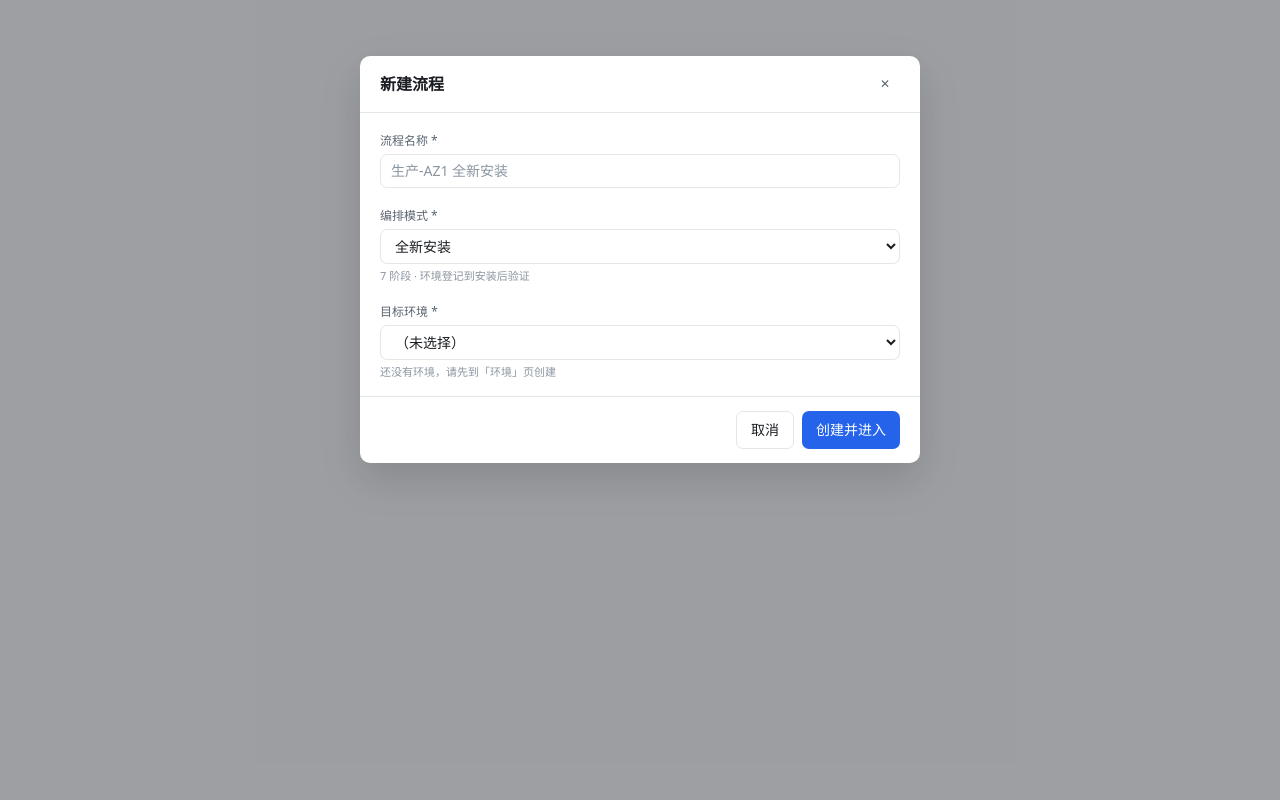
NewFlowDialog › 目标环境 hint 跟着模式改口：只有 K8s 升级说「可留空」
Expected: the text "还没有环境，请先到「环境」页创建" is shown, top-left (380, 364), bottom-right (556, 379)
Select "K8s / Helm 升级" in the dropdown labelled "编排模式 * 7 阶段 · 环境登记到安装后验证" at (640, 246), box top-left (380, 229), bottom-right (900, 264)
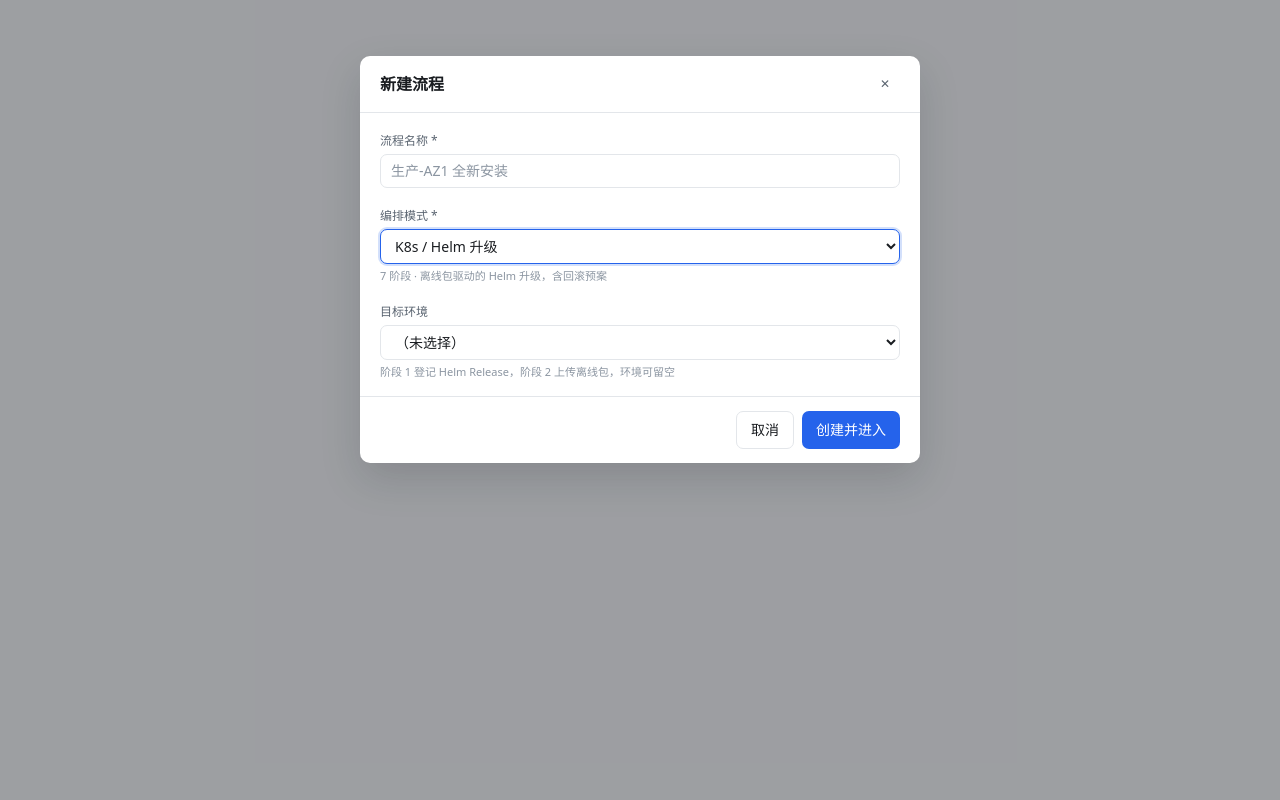
Result: the text "阶段 1 登记 Helm Release，阶段 2 上传离线包，环境可留空" is shown at top-left (380, 364), bottom-right (675, 379)
